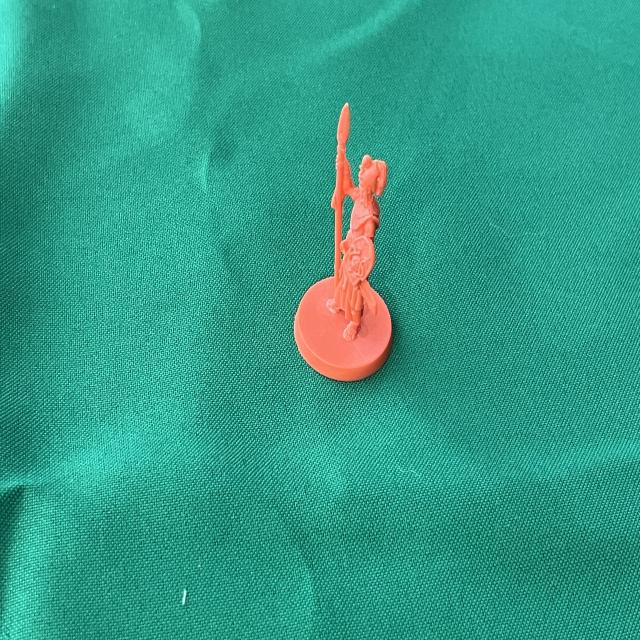amon_follower: (294, 103, 392, 382)
